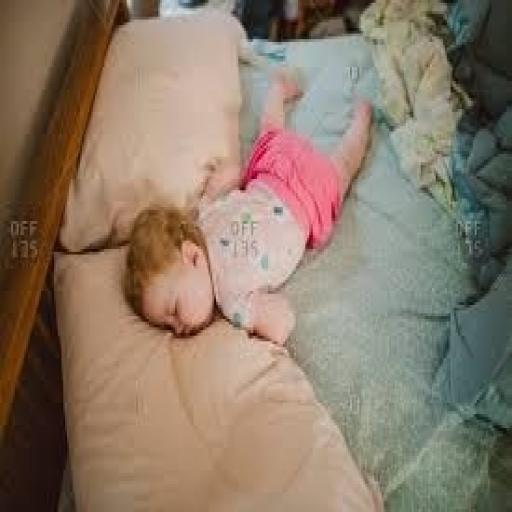sleeping: (121, 64, 376, 347)
